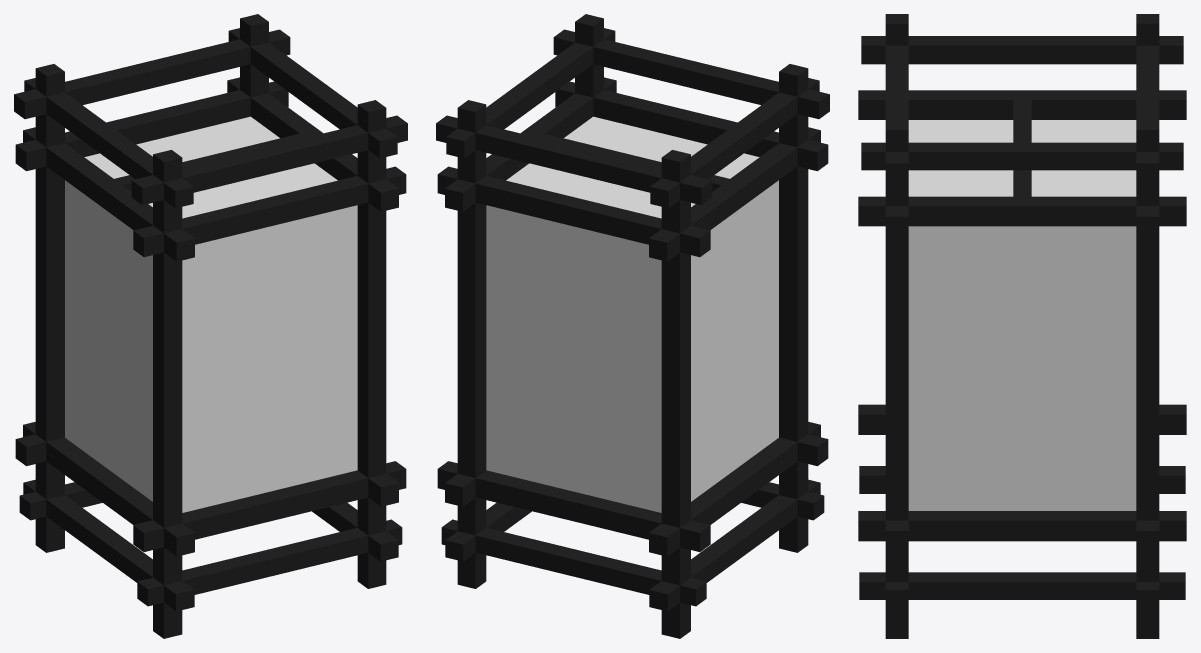
The model's file is Shrine_Lamp_4.fbx.
3 views of the same model, side by side, from view 1: azimuth 30°, elevation 25°; view 2: azimuth 150°, elevation 25°; view 3: azimuth 270°, elevation 25° (orthographic). The views are drawn at different scales.
Visible parts, largest first — view 1: Shrine_Lamp_4; view 2: Shrine_Lamp_4; view 3: Shrine_Lamp_4.
Boxes of the visible parts, left/top/right/bottom form: Shrine_Lamp_4: left=14, top=14, right=407, bottom=638; Shrine_Lamp_4: left=436, top=14, right=829, bottom=638; Shrine_Lamp_4: left=858, top=14, right=1186, bottom=638.
Bounding box in the file's own units: 97.19 × 167 × 97.49.
